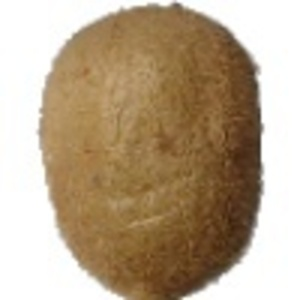kiwi: (37, 1, 265, 300)
